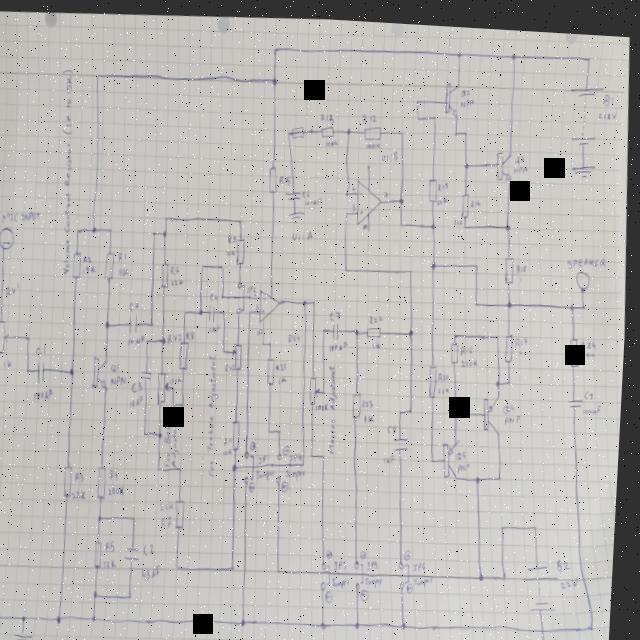capacitor: (126, 543, 146, 561), (396, 430, 414, 448), (39, 357, 50, 383), (130, 311, 142, 332), (209, 299, 221, 318), (570, 390, 587, 402), (286, 186, 302, 198), (143, 367, 156, 379), (334, 318, 343, 335)
crossover: (547, 620, 551, 626)
ground: (571, 155, 597, 172), (536, 632, 569, 640), (289, 206, 305, 220), (19, 629, 39, 640)
junction: (280, 559, 288, 571), (107, 318, 114, 328), (272, 73, 279, 83), (272, 42, 279, 51), (235, 460, 242, 469), (62, 612, 68, 622), (72, 365, 78, 375), (357, 322, 363, 332), (26, 613, 33, 621), (102, 512, 108, 521), (456, 44, 462, 53), (346, 121, 352, 130), (93, 224, 99, 233), (98, 589, 104, 598), (506, 216, 512, 225), (511, 45, 517, 54), (411, 323, 417, 332), (508, 294, 515, 301), (594, 616, 601, 623), (457, 403, 463, 411), (97, 613, 103, 621), (246, 615, 252, 623), (585, 47, 591, 55), (132, 590, 138, 598), (572, 295, 578, 303), (163, 334, 169, 342), (235, 561, 241, 569), (498, 372, 504, 380), (479, 469, 485, 477), (455, 325, 461, 333), (407, 615, 413, 623), (201, 304, 206, 313), (239, 215, 245, 222), (583, 296, 589, 303), (164, 227, 170, 234), (400, 192, 405, 200), (136, 512, 141, 520), (412, 401, 417, 409), (501, 467, 506, 475), (180, 560, 185, 568), (222, 260, 227, 268), (400, 124, 405, 132), (313, 447, 318, 455), (202, 259, 207, 267), (304, 294, 309, 302), (465, 154, 469, 163), (326, 618, 332, 624), (308, 124, 314, 130), (95, 70, 100, 77), (184, 398, 189, 405), (324, 322, 329, 329), (361, 616, 366, 623), (110, 224, 114, 232), (484, 567, 488, 575), (433, 255, 437, 263), (28, 366, 33, 372), (250, 306, 255, 312), (29, 334, 33, 341), (162, 428, 166, 435), (508, 566, 512, 573), (78, 226, 82, 233), (510, 372, 514, 379), (325, 448, 329, 455), (433, 108, 437, 115), (454, 123, 458, 130), (175, 382, 179, 389), (402, 403, 406, 410), (271, 424, 275, 431), (183, 462, 187, 469), (326, 384, 330, 391), (165, 214, 170, 219), (148, 336, 153, 341), (434, 452, 438, 458), (185, 306, 189, 312), (476, 294, 480, 300), (506, 518, 510, 524), (271, 336, 275, 342), (537, 517, 541, 523), (464, 124, 468, 130), (417, 110, 421, 116), (147, 428, 151, 434), (152, 319, 156, 325), (225, 346, 229, 352), (401, 216, 405, 222), (346, 185, 350, 191), (154, 229, 158, 235), (498, 328, 502, 334), (281, 424, 285, 430), (161, 463, 165, 469), (223, 291, 227, 297), (224, 306, 228, 312), (175, 400, 179, 405), (476, 256, 480, 261), (432, 218, 436, 223), (347, 262, 351, 267), (306, 458, 310, 463), (288, 128, 292, 133), (411, 263, 415, 267), (347, 206, 351, 210), (464, 219, 468, 222), (315, 295, 318, 299), (416, 94, 418, 98), (265, 338, 267, 340)
resistor: (0, 317, 15, 355), (158, 368, 174, 403), (430, 357, 443, 394), (570, 330, 584, 360), (311, 371, 325, 401), (234, 339, 248, 368), (105, 248, 118, 279), (178, 496, 191, 526), (66, 464, 78, 495), (235, 416, 246, 449), (268, 162, 280, 191), (73, 249, 85, 278), (181, 338, 193, 367), (506, 326, 517, 357), (363, 120, 384, 136), (506, 249, 518, 277), (97, 539, 109, 567), (101, 465, 111, 497), (354, 386, 365, 414), (269, 353, 279, 382), (428, 172, 440, 196), (461, 185, 471, 213), (452, 334, 463, 359), (368, 319, 385, 335), (162, 259, 172, 286), (237, 236, 247, 261), (321, 120, 336, 135)
source: (566, 76, 607, 140), (525, 555, 565, 607)
switch: (246, 447, 260, 480), (357, 554, 371, 586), (402, 555, 416, 584), (237, 278, 249, 310), (324, 556, 336, 586), (277, 448, 287, 481)
terminal: (368, 158, 372, 165), (369, 222, 371, 226)
text: (54, 65, 81, 273), (207, 349, 226, 474), (328, 358, 345, 449), (173, 408, 185, 465), (3, 208, 42, 225), (166, 413, 178, 465), (566, 249, 608, 262), (146, 559, 166, 579), (292, 225, 315, 239), (37, 385, 57, 401), (585, 395, 605, 411), (290, 463, 310, 479), (597, 100, 619, 114), (565, 568, 583, 584), (6, 281, 23, 297), (382, 143, 400, 158), (370, 570, 389, 584), (260, 464, 282, 476), (419, 569, 439, 582), (337, 571, 355, 585), (582, 330, 600, 344), (305, 190, 323, 204), (416, 553, 433, 567), (112, 482, 130, 495), (130, 332, 148, 345), (463, 350, 482, 362), (75, 485, 91, 499), (508, 406, 524, 420), (132, 392, 148, 406), (169, 330, 186, 343), (560, 551, 577, 564), (332, 336, 350, 348), (321, 106, 335, 121), (108, 555, 123, 569), (114, 372, 130, 385), (516, 329, 532, 342), (109, 536, 121, 552), (362, 107, 377, 119), (371, 308, 386, 320), (84, 261, 99, 273), (149, 539, 161, 554), (584, 341, 599, 353), (514, 158, 530, 169), (602, 85, 615, 98), (278, 357, 291, 370), (463, 338, 477, 350), (261, 449, 275, 461), (171, 274, 186, 285), (338, 554, 353, 565), (460, 455, 475, 466), (372, 553, 384, 566), (39, 342, 51, 355), (506, 396, 519, 408), (290, 328, 304, 339), (113, 466, 124, 480), (517, 256, 529, 268), (280, 170, 292, 182), (135, 379, 147, 391), (367, 407, 379, 419), (387, 448, 400, 459), (165, 498, 179, 508), (440, 379, 454, 389), (172, 372, 186, 382), (461, 92, 475, 102), (330, 585, 340, 599), (325, 134, 340, 143), (366, 136, 381, 145), (113, 359, 124, 371), (365, 393, 377, 404), (440, 365, 452, 376), (211, 321, 224, 331), (437, 190, 450, 200), (79, 469, 89, 482), (319, 398, 333, 407), (453, 211, 464, 222), (166, 513, 176, 525), (6, 357, 16, 369), (120, 265, 132, 275), (439, 175, 449, 187), (391, 418, 401, 429), (188, 327, 198, 338), (85, 252, 95, 263), (229, 231, 239, 242), (172, 263, 183, 273), (132, 299, 142, 310), (120, 249, 130, 260), (374, 335, 385, 345), (281, 371, 291, 382), (460, 444, 470, 455), (587, 383, 598, 393), (516, 147, 526, 158), (294, 448, 306, 457), (408, 543, 417, 555), (366, 584, 375, 596), (286, 475, 294, 488), (332, 306, 342, 316), (228, 359, 238, 369), (303, 184, 313, 194), (248, 281, 259, 290), (411, 577, 420, 588), (252, 478, 261, 489), (228, 245, 238, 254), (227, 433, 236, 443), (227, 444, 237, 453), (286, 441, 295, 451), (460, 83, 471, 91), (365, 543, 373, 554), (212, 288, 220, 298), (472, 193, 482, 201), (331, 544, 339, 554), (384, 185, 391, 195), (351, 197, 358, 206), (263, 304, 270, 312), (254, 437, 260, 446), (361, 203, 367, 210), (260, 324, 265, 332), (361, 186, 366, 193), (258, 299, 262, 307), (264, 291, 269, 297), (353, 179, 357, 186), (365, 218, 369, 224), (256, 288, 260, 293)
transistor: (484, 386, 505, 428), (444, 431, 463, 475), (93, 353, 114, 390), (494, 143, 515, 178), (442, 75, 461, 113)
